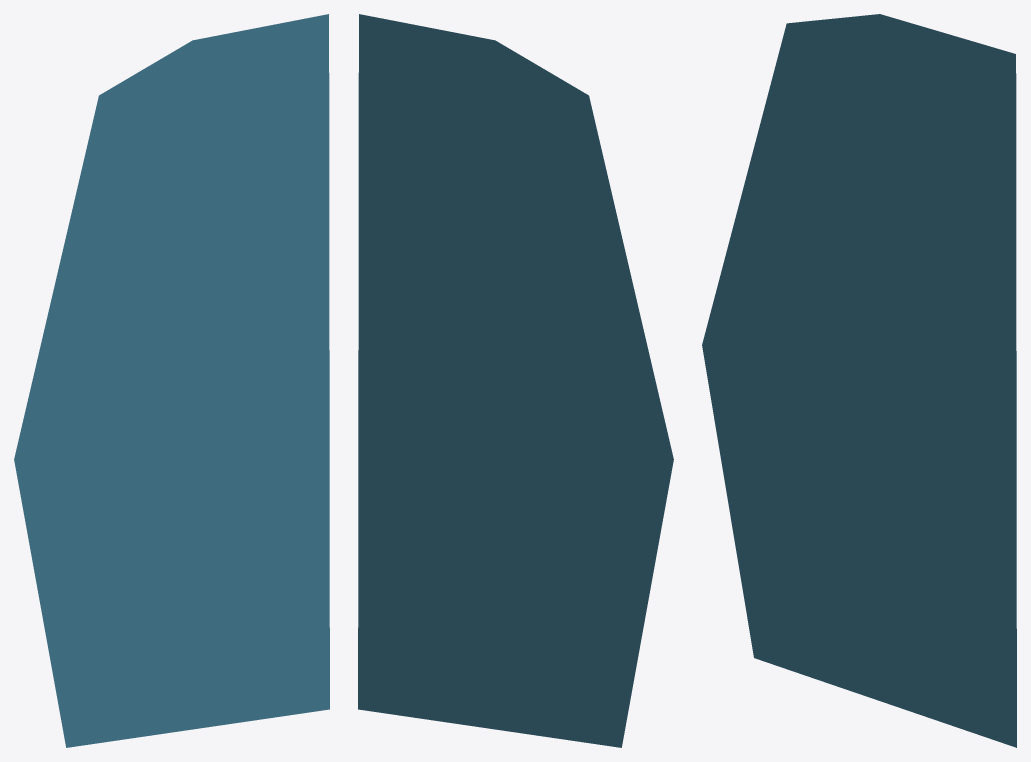
Rendered from NexusA_Cloth_17.fbx.
3 views of the same model, side by side, from view 1: azimuth 30°, elevation 25°; view 2: azimuth 150°, elevation 25°; view 3: azimuth 330°, elevation 25° (orthographic).
Visible parts, largest first — view 1: pasted__polySurface68; view 2: pasted__polySurface68; view 3: pasted__polySurface68.
Boxes of the visible parts, left/top/right/bottom form: pasted__polySurface68: left=14, top=14, right=329, bottom=747; pasted__polySurface68: left=358, top=14, right=673, bottom=747; pasted__polySurface68: left=702, top=14, right=1016, bottom=747.
Size of the model in its own units: 28.4 by 60.37 by 8.25e-06.
